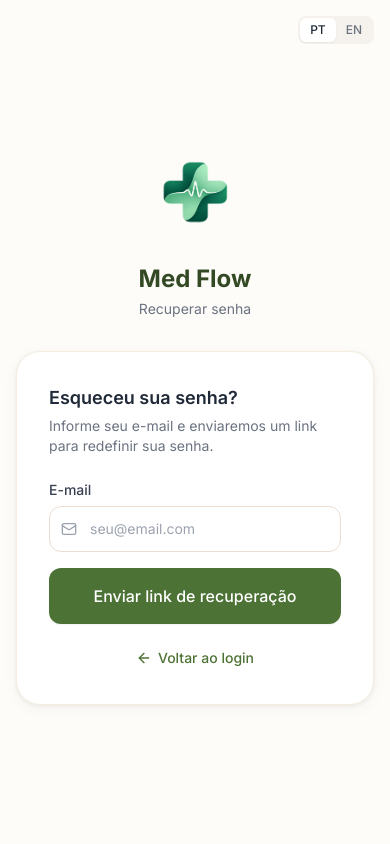
Test: Password Recovery Journey › ForgotPasswordPage › submits forgot password request and shows reset link
Type "user@test.com" into the field with placeholder "seu@email.com".
click(195, 529); type("user@test.com")  # box [49,506,341,552]
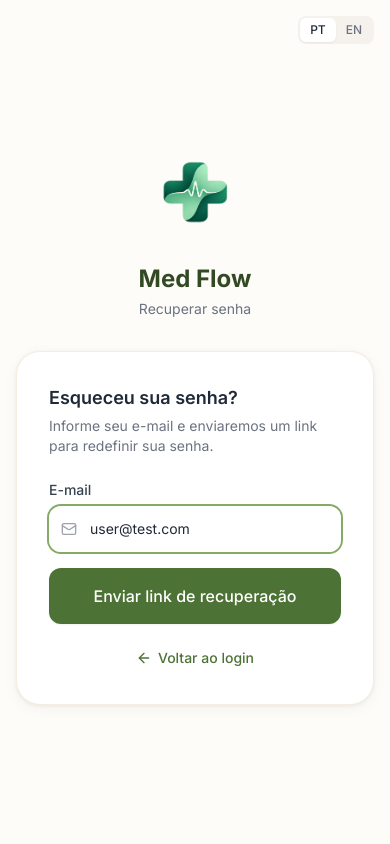
Click the button "Enviar link de recuperação".
click(195, 596)  # box [49,568,341,624]
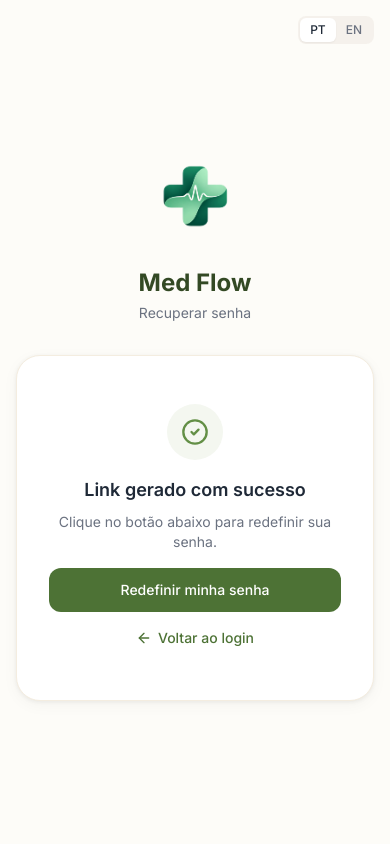
Check: the heading "Link gerado com sucesso" is shown, box [84,479,306,500]
Check: the link "Redefinir minha senha" is shown, box [49,568,341,612]
